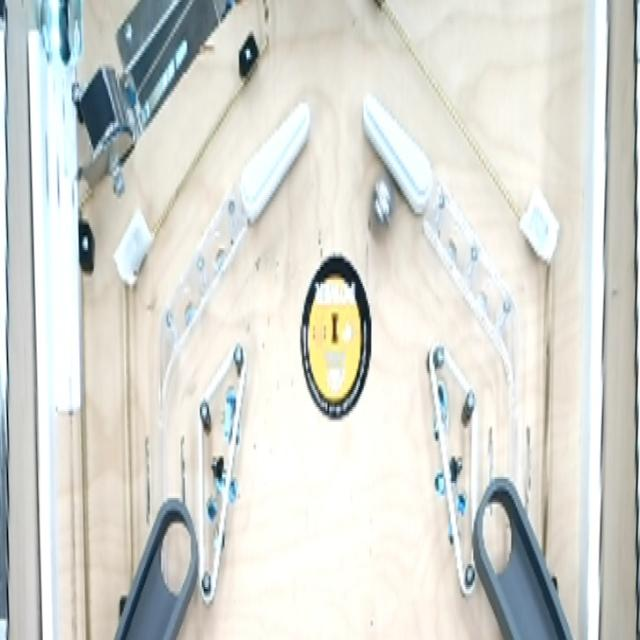ball: (367, 167, 395, 236)
flipper-left: (359, 88, 439, 238)
flipper-right: (240, 93, 314, 233)
